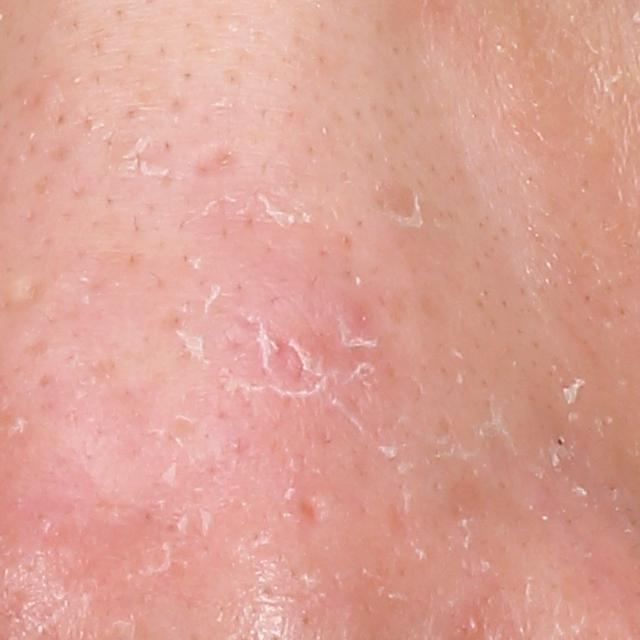atrophic_scar: (186, 138, 244, 187), (3, 276, 46, 317), (293, 490, 337, 529)
